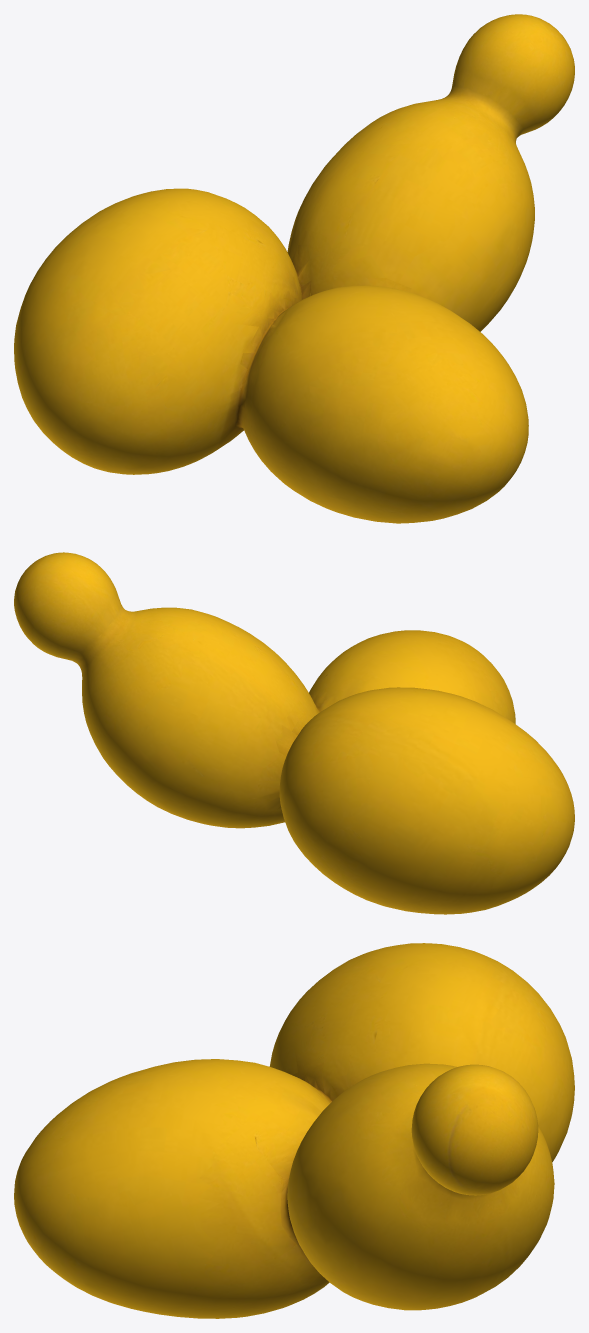
File: yeast.glb
The picture shows the model from 3 angles, top to bottom: view 1: azimuth 30°, elevation 25°; view 2: azimuth 150°, elevation 25°; view 3: azimuth 270°, elevation 25°; orthographic projection. The views are drawn at different scales.
Visible parts, largest first — view 1: lod10000; view 2: lod10000; view 3: lod10000.
Part boxes in pixels (left/top/right/bottom): lod10000: left=14, top=14, right=574, bottom=523; lod10000: left=14, top=552, right=574, bottom=914; lod10000: left=14, top=943, right=574, bottom=1318.
Bounding box in the file's own units: 1.9 × 1.07 × 1.45.
1 material, 1 textured.
